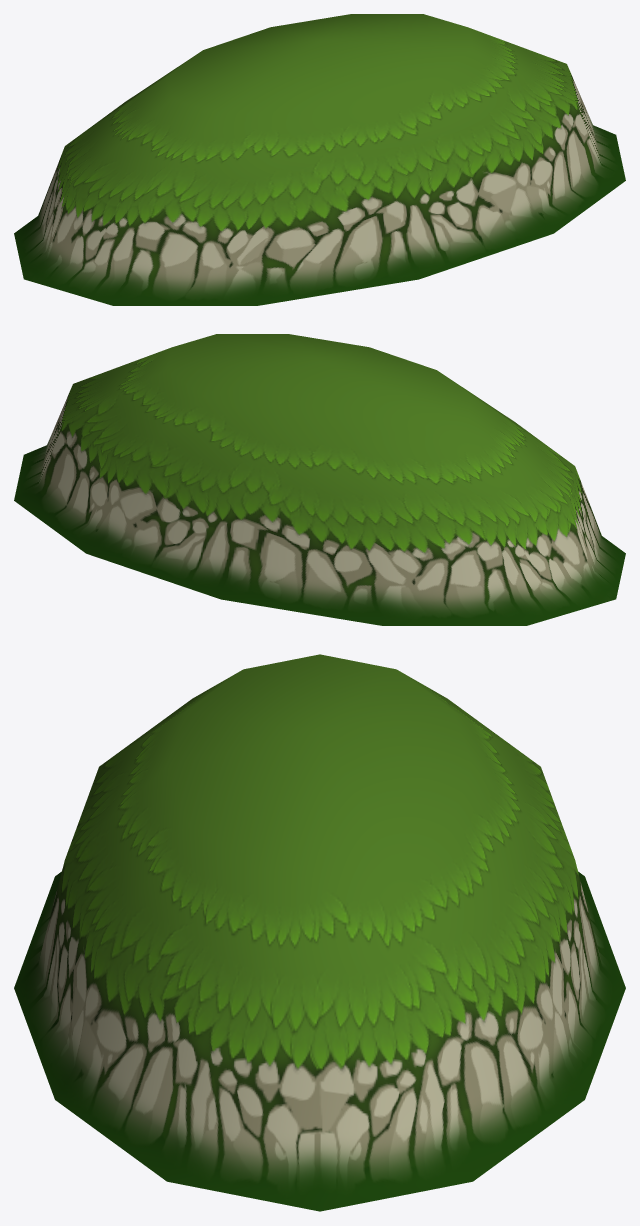
The model's file is Hill1.glb.
The picture shows the model from 3 angles, top to bottom: view 1: azimuth 30°, elevation 25°; view 2: azimuth 150°, elevation 25°; view 3: azimuth 270°, elevation 25°; orthographic projection. The views are drawn at different scales.
Visible parts, largest first — view 1: Hill_01; view 2: Hill_01; view 3: Hill_01.
Part boxes in pixels (<box>): Hill_01: <box>14,14,625,305</box>; Hill_01: <box>14,334,625,625</box>; Hill_01: <box>14,654,625,1211</box>.
Size of the model in its own units: 307 by 82.16 by 178.
1 material, 1 textured.
